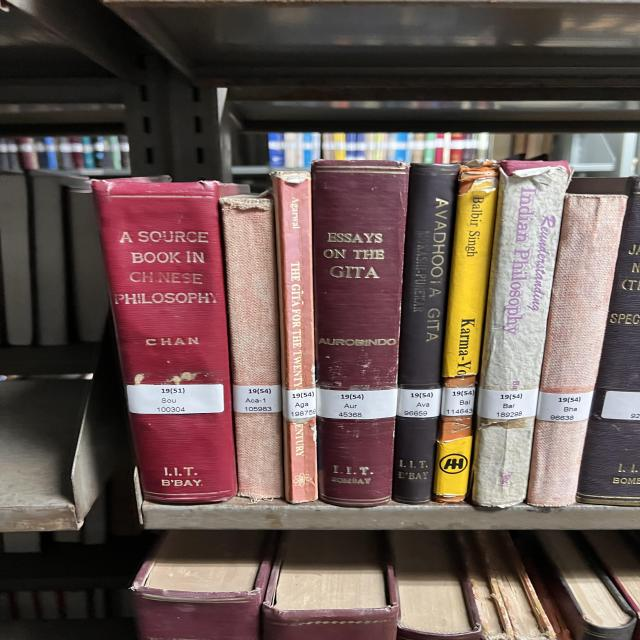Book: (93, 179, 240, 502), (472, 161, 570, 508), (312, 160, 408, 506), (527, 194, 627, 506), (393, 164, 460, 504), (572, 178, 640, 505), (433, 160, 498, 502), (220, 194, 283, 500), (272, 171, 318, 502)
Label: (127, 384, 225, 414), (317, 388, 398, 420), (477, 389, 538, 420), (537, 391, 593, 422), (233, 385, 282, 412), (397, 389, 442, 418), (602, 391, 640, 420), (283, 389, 317, 419), (440, 388, 475, 416)
